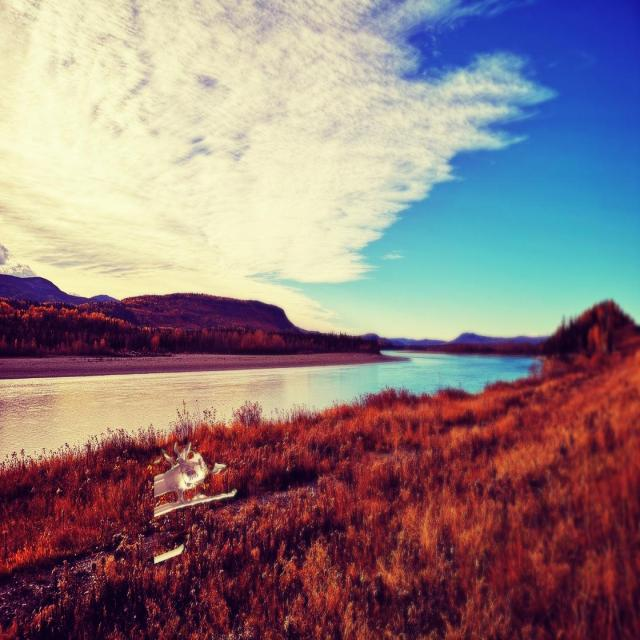airplane: (151, 438, 237, 522)
